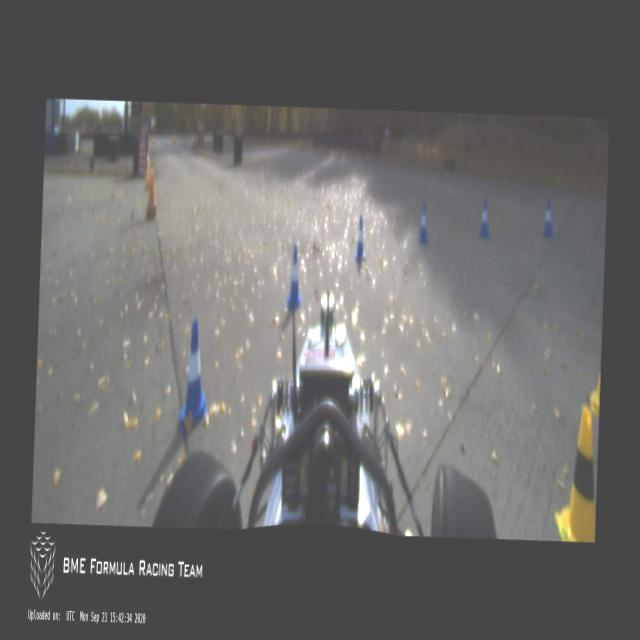blue_cone: (178, 318, 210, 436), (286, 244, 302, 308), (354, 216, 366, 261), (478, 198, 490, 238), (542, 198, 554, 238), (418, 204, 428, 244)
yellow_cone: (553, 404, 599, 541)
